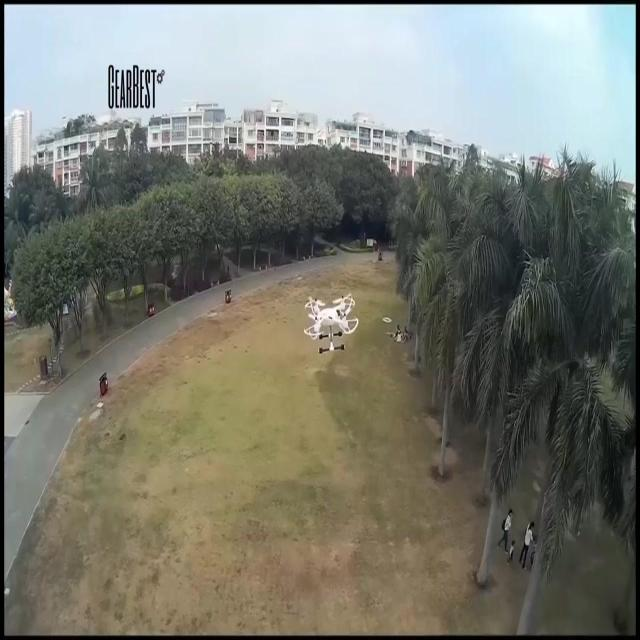drone: (304, 292, 358, 355)
